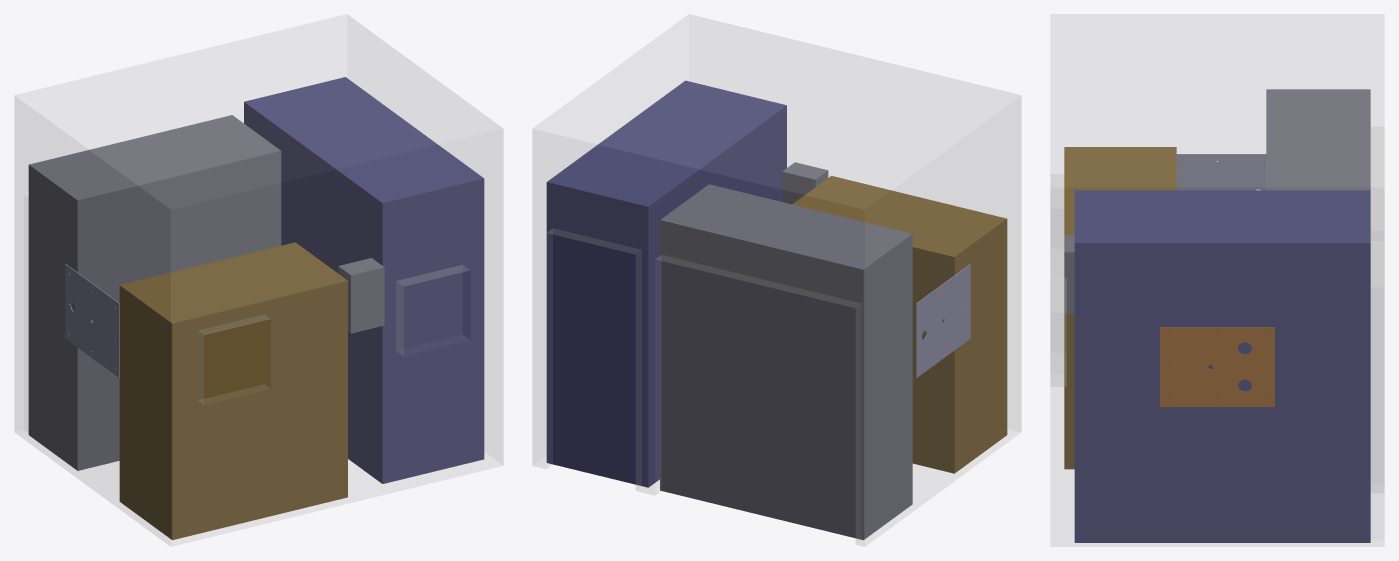
File: assembly.glb
3 views of the same model, side by side, from view 1: azimuth 30°, elevation 25°; view 2: azimuth 150°, elevation 25°; view 3: azimuth 270°, elevation 25° (orthographic). The views are drawn at different scales.
Visible parts, largest first — view 1: container_shell, GRD-XFM-001, GRD-SWG-001, GRD-LVS-001, ARC-PLT-CG, GRD-SWITCH-001; view 2: container_shell, GRD-LVS-001, GRD-SWG-001, GRD-XFM-001, ARC-PLT-CG, GRD-SWITCH-001; view 3: container_shell, GRD-SWG-001, GRD-LVS-001, ARC-PLT-BG-AC, GRD-XFM-001, ARC-PLT-CG, GRD-SWITCH-001.
Boxes of the visible parts, x1=… form: container_shell: x1=14, y1=14, x2=503, y2=546; GRD-XFM-001: x1=119, y1=242, x2=347, y2=540; GRD-SWG-001: x1=244, y1=77, x2=484, y2=483; GRD-LVS-001: x1=28, y1=115, x2=281, y2=470; ARC-PLT-CG: x1=65, y1=264, x2=119, y2=377; GRD-SWITCH-001: x1=338, y1=258, x2=384, y2=333; container_shell: x1=532, y1=14, x2=1021, y2=546; GRD-LVS-001: x1=660, y1=184, x2=912, y2=540; GRD-SWG-001: x1=546, y1=80, x2=786, y2=487; GRD-XFM-001: x1=792, y1=176, x2=1007, y2=473; ARC-PLT-CG: x1=916, y1=264, x2=970, y2=377; GRD-SWITCH-001: x1=782, y1=162, x2=828, y2=204; container_shell: x1=1050, y1=14, x2=1384, y2=546; GRD-SWG-001: x1=1074, y1=190, x2=1370, y2=542; GRD-LVS-001: x1=1266, y1=89, x2=1370, y2=190; ARC-PLT-BG-AC: x1=1160, y1=327, x2=1274, y2=406; GRD-XFM-001: x1=1064, y1=147, x2=1176, y2=469; ARC-PLT-CG: x1=1176, y1=154, x2=1266, y2=190; GRD-SWITCH-001: x1=1064, y1=235, x2=1074, y2=314.
Bounding box in the file's own units: 2997 × 2896 × 2438.
